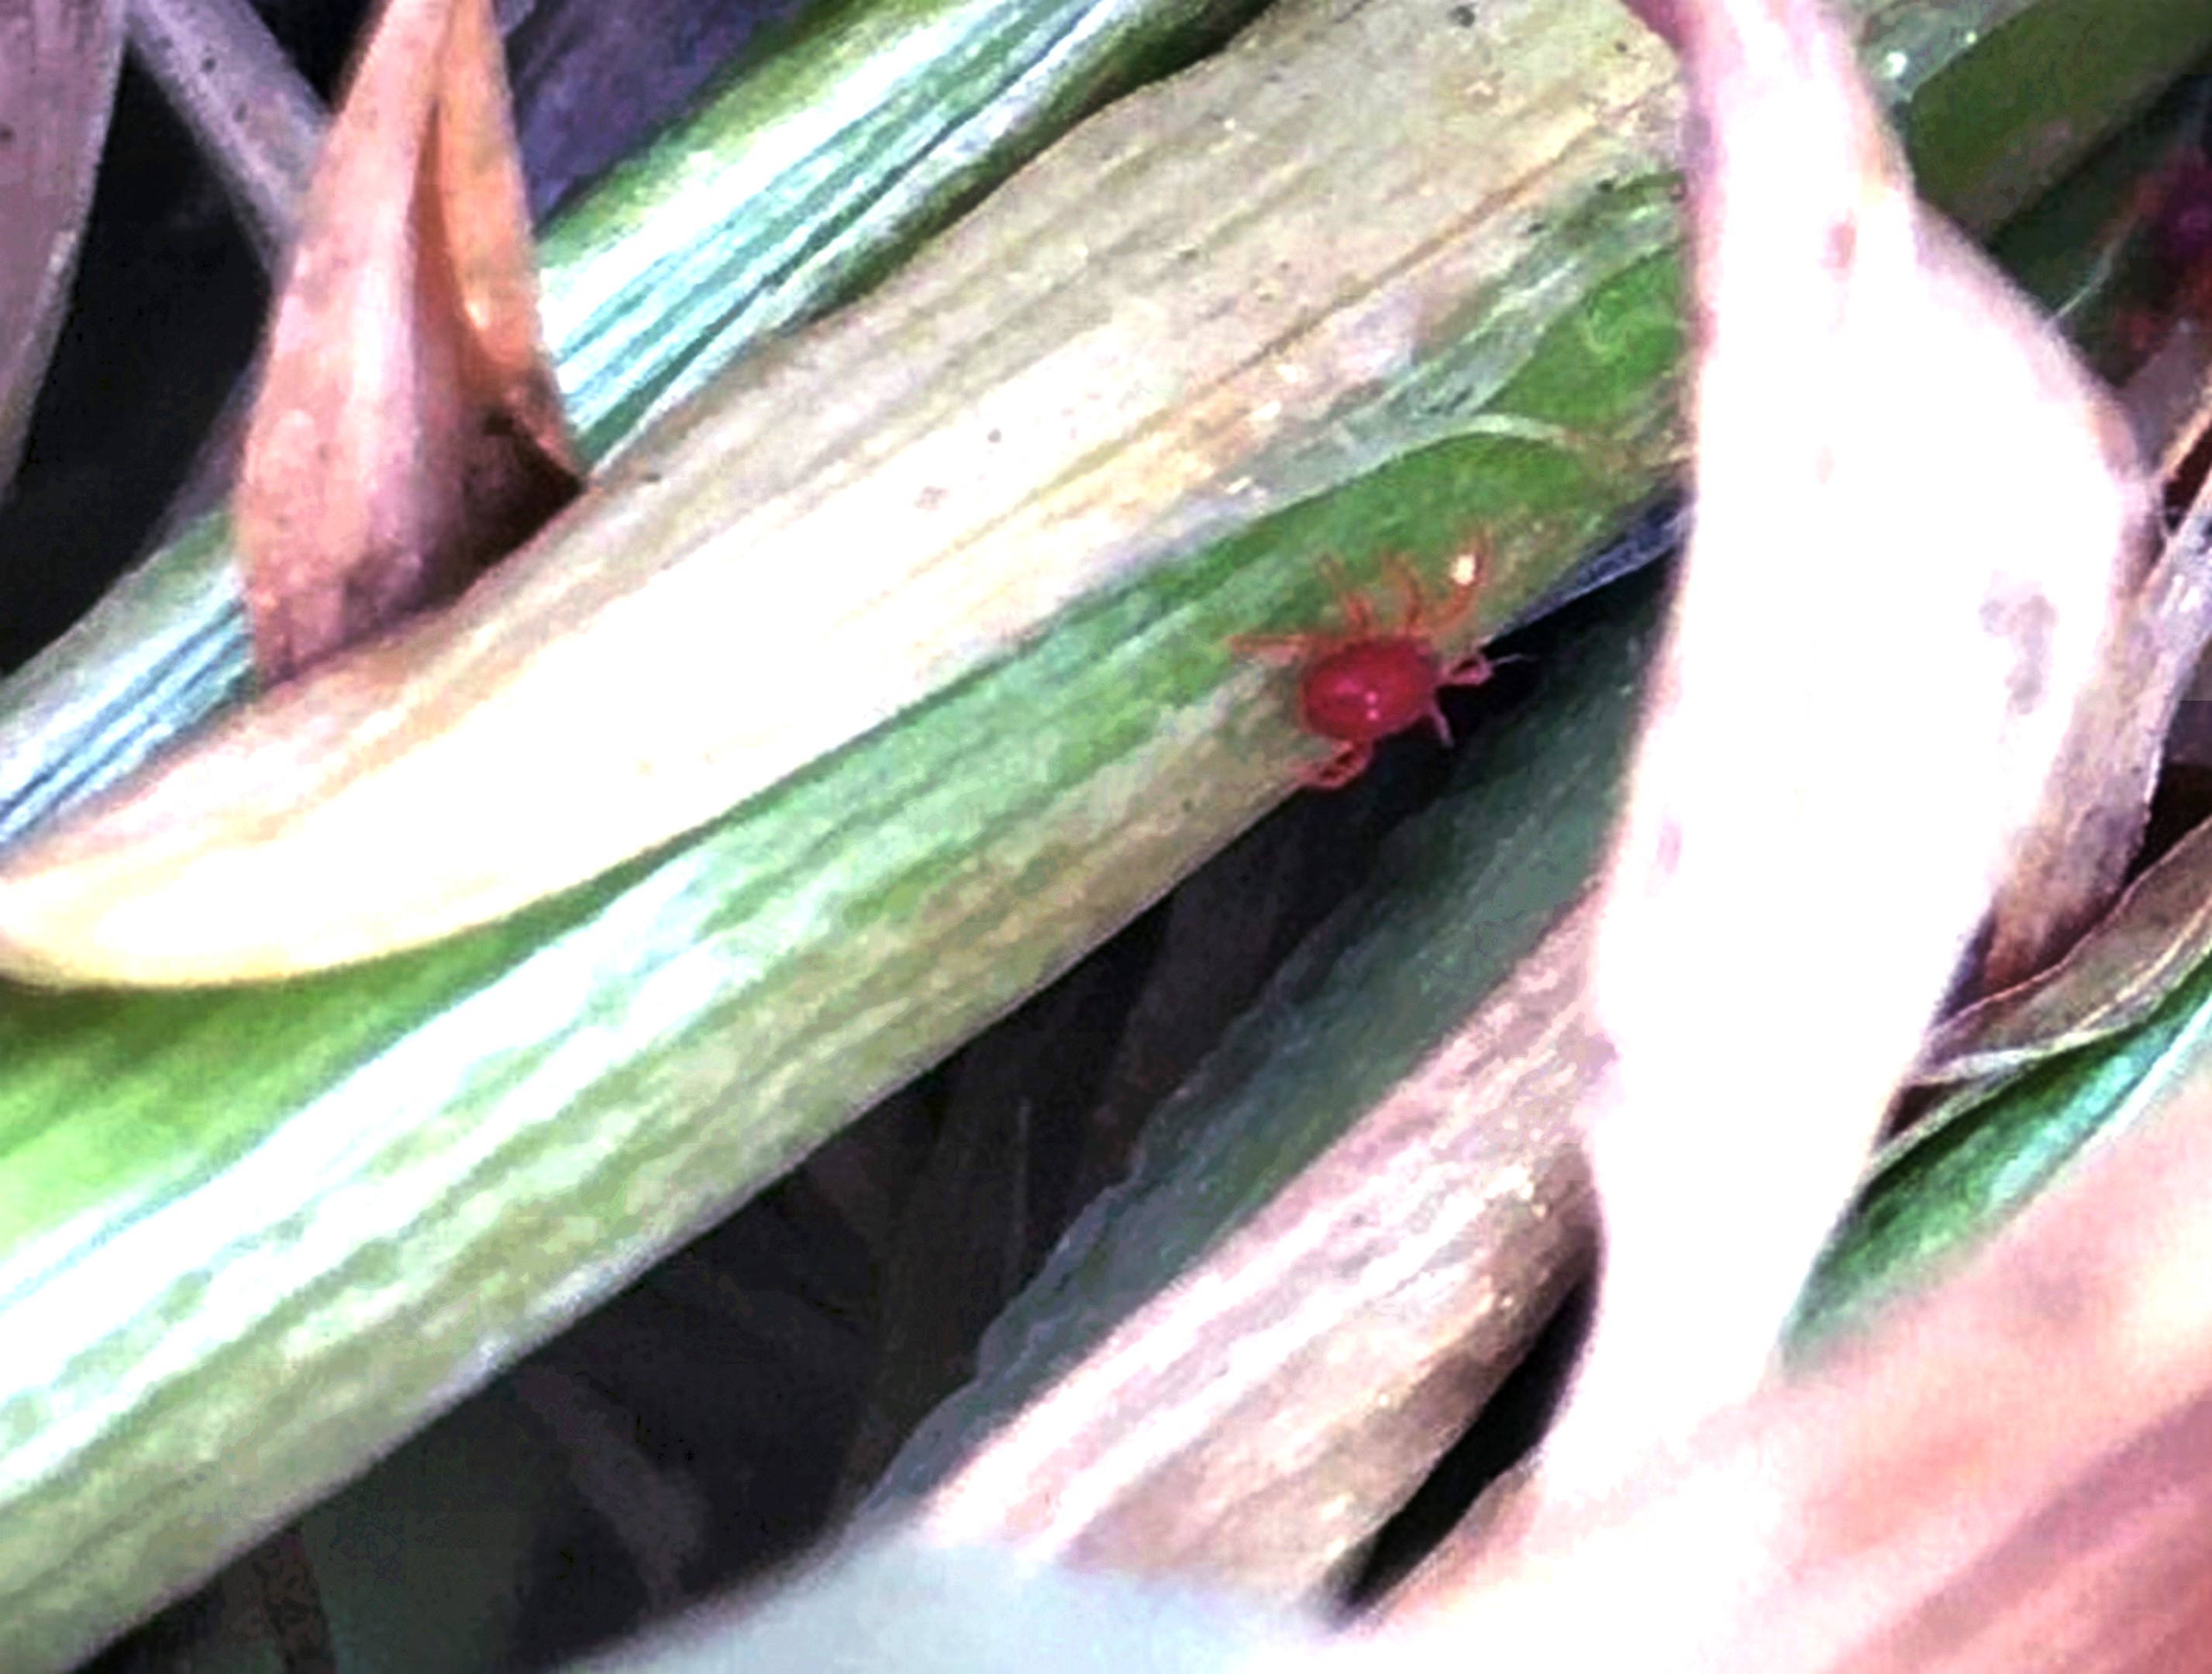Wheat Red Spider: (1199, 505, 1558, 805)
